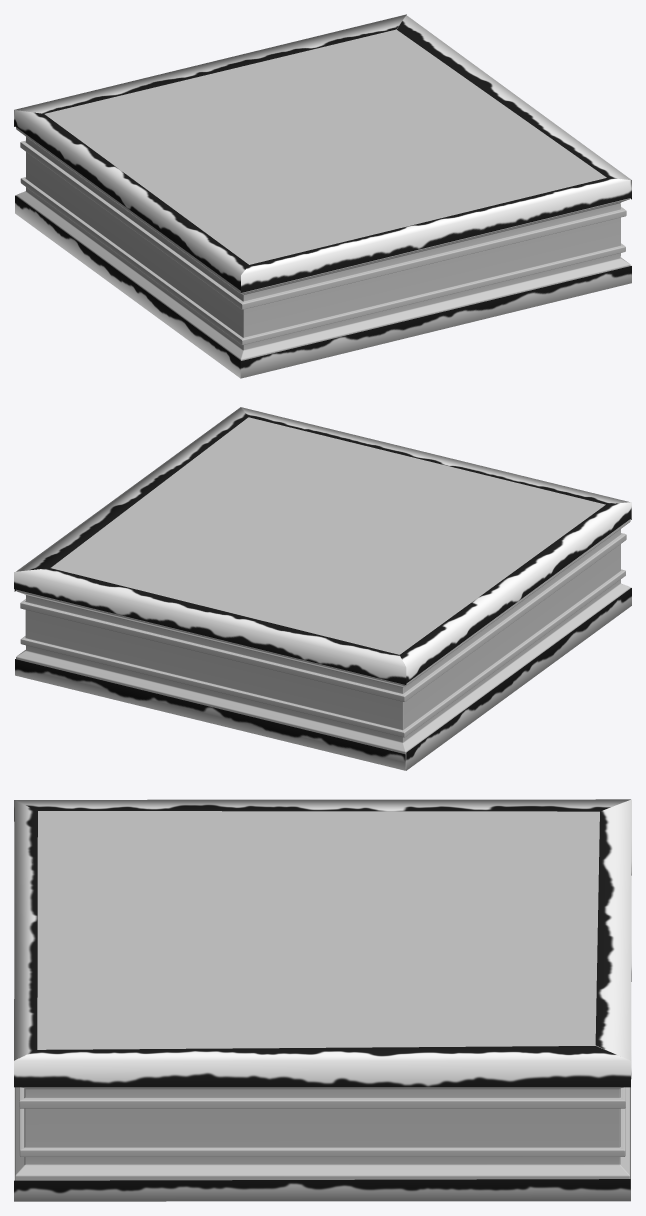
Rendered from Env_StoneSlabDamaged_2x1x2_01.fbx.
The picture shows the model from 3 angles, top to bottom: view 1: azimuth 30°, elevation 25°; view 2: azimuth 150°, elevation 25°; view 3: azimuth 270°, elevation 25°; orthographic projection. The views are drawn at different scales.
Parts seen in each view (by area): view 1: polySurface20; view 2: polySurface20; view 3: polySurface20.
Boxes of the visible parts, bbox=[...] form: polySurface20: bbox=[14, 14, 631, 378]; polySurface20: bbox=[14, 407, 631, 770]; polySurface20: bbox=[14, 799, 631, 1201].
Size of the model in its own units: 2.01 by 0.507 by 2.01.
